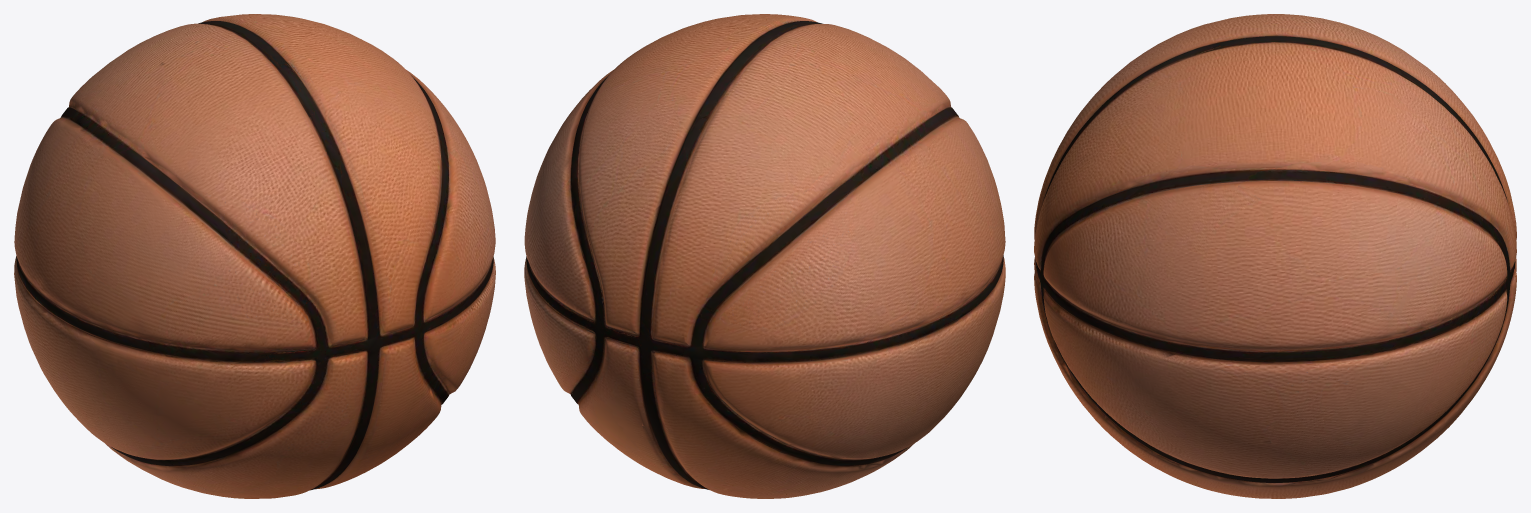
The model's file is basketball-opt-mobile.glb.
3 renders of one model, left to right at view 1: azimuth 30°, elevation 25°; view 2: azimuth 150°, elevation 25°; view 3: azimuth 270°, elevation 25°, orthographic.
Parts seen in each view (by area): view 1: node_0; view 2: node_0; view 3: node_0.
Boxes of the visible parts, left/top/right/bottom form: node_0: left=14, top=14, right=495, bottom=498; node_0: left=524, top=14, right=1005, bottom=498; node_0: left=1034, top=14, right=1516, bottom=498.
Size of the model in its own units: 1.18 by 1.19 by 1.19.
1 material, 1 textured.
